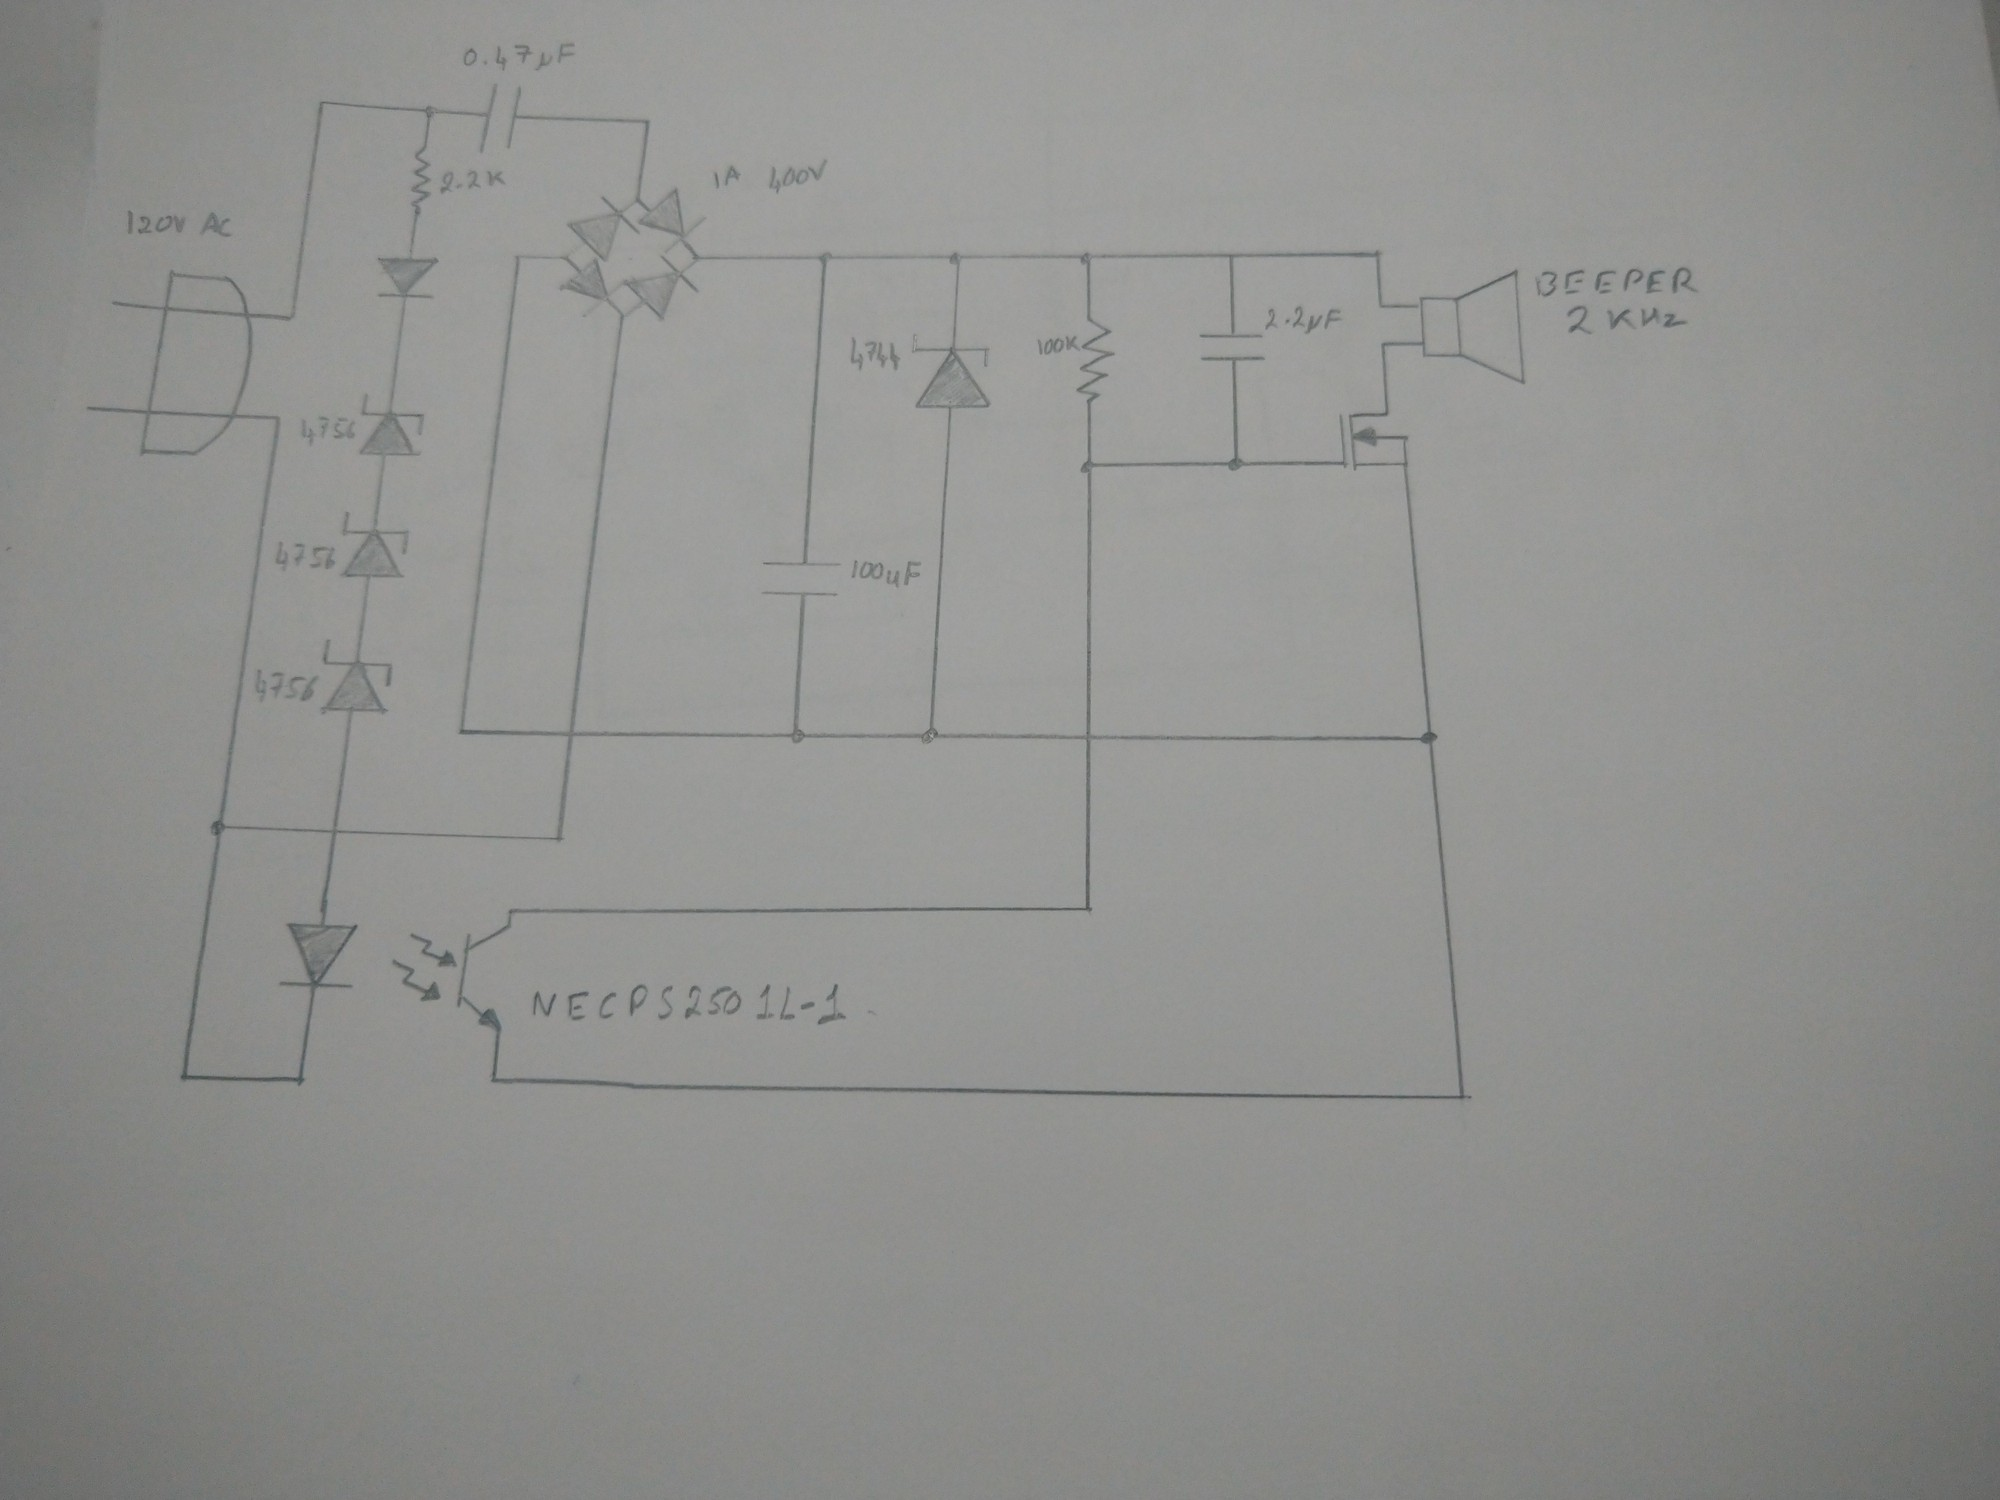capacitor.unpolarized: (469, 79, 534, 158), (757, 548, 844, 607), (1194, 321, 1268, 372)
crossover: (323, 822, 346, 841), (1076, 728, 1099, 747), (561, 725, 581, 744)
diode: (910, 332, 994, 411), (321, 638, 395, 722), (340, 507, 409, 581), (357, 392, 427, 460), (628, 258, 699, 318), (569, 195, 636, 255), (639, 189, 702, 252), (375, 254, 443, 304), (561, 260, 617, 315)
junction: (920, 722, 942, 750), (1416, 726, 1443, 748), (1224, 452, 1247, 474), (943, 247, 967, 269), (206, 818, 230, 838), (1079, 455, 1099, 477), (813, 247, 836, 266), (1454, 1089, 1477, 1108), (784, 726, 808, 745), (268, 410, 290, 429), (291, 1067, 310, 1089), (638, 112, 658, 131), (175, 1067, 194, 1087), (1369, 244, 1387, 265), (546, 829, 570, 845), (420, 102, 439, 121), (1079, 900, 1098, 919), (1079, 251, 1098, 268), (283, 306, 299, 325), (455, 723, 469, 744), (688, 251, 706, 266), (630, 192, 646, 210), (313, 96, 331, 112), (510, 251, 529, 265), (556, 251, 576, 263), (1375, 296, 1389, 312), (1224, 249, 1239, 263), (616, 307, 631, 321), (504, 903, 518, 917), (487, 1071, 501, 1086), (1378, 337, 1391, 351)
optocoupler: (279, 920, 513, 1038)
resistor: (1076, 317, 1117, 403), (408, 145, 435, 221)
socket: (137, 268, 255, 459)
speaker: (1416, 266, 1534, 389)
terminal: (104, 296, 124, 310), (80, 402, 98, 418)
text: (531, 983, 849, 1027), (1534, 266, 1704, 299), (1561, 303, 1698, 339), (460, 41, 580, 76), (124, 208, 239, 241), (765, 154, 833, 197), (1263, 303, 1343, 337), (847, 558, 924, 592), (254, 668, 320, 704), (846, 336, 906, 375), (274, 540, 337, 575), (439, 167, 507, 195), (299, 414, 357, 446), (709, 162, 746, 192), (1035, 334, 1082, 356)
transistor: (1334, 407, 1417, 474)
